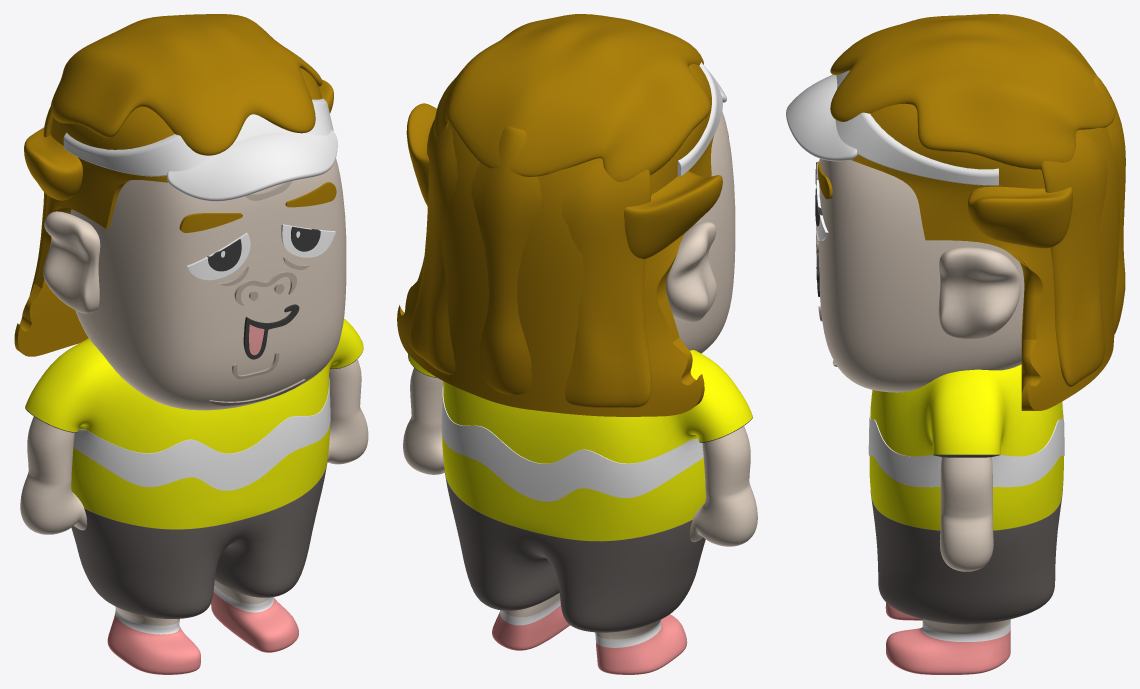
3 views of the same model, side by side, from view 1: azimuth 30°, elevation 25°; view 2: azimuth 150°, elevation 25°; view 3: azimuth 270°, elevation 25° (orthographic).
Parts seen in each view (by area): view 1: 022_Choshu; view 2: 022_Choshu; view 3: 022_Choshu.
Boxes of the visible parts, <box> form: 022_Choshu: <box>14,14,368,674</box>; 022_Choshu: <box>397,14,757,674</box>; 022_Choshu: <box>786,14,1125,674</box>.
Bounding box in the file's own units: 0.1095 × 0.1859 × 0.0946.
